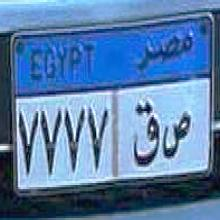7: (39, 101, 63, 176), (63, 105, 87, 179), (18, 108, 39, 181), (87, 104, 109, 173)
qaaf: (131, 94, 161, 169)
saad: (161, 110, 192, 165)
